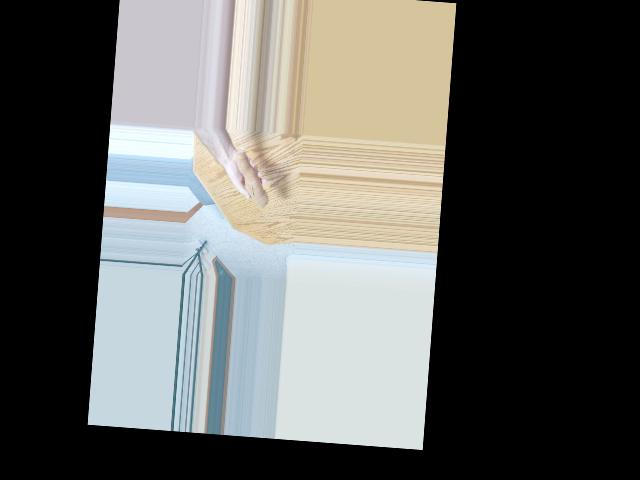sweet_potato: (227, 145, 272, 209)
